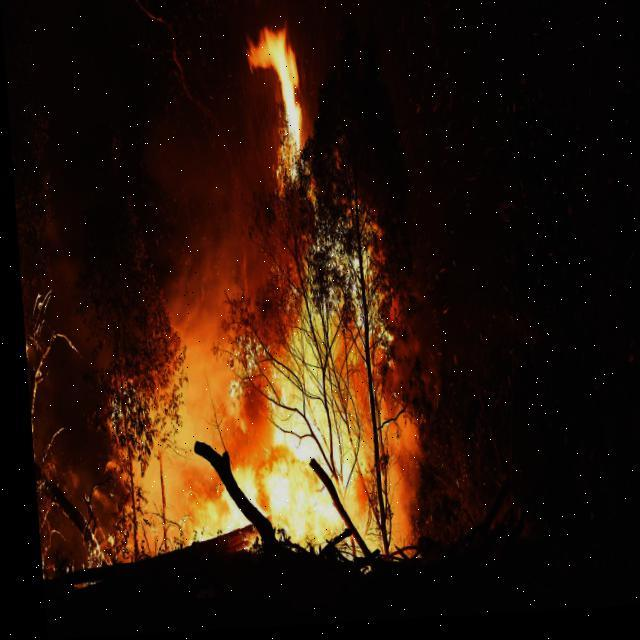Fire: (98, 296, 424, 580), (237, 19, 303, 156)
